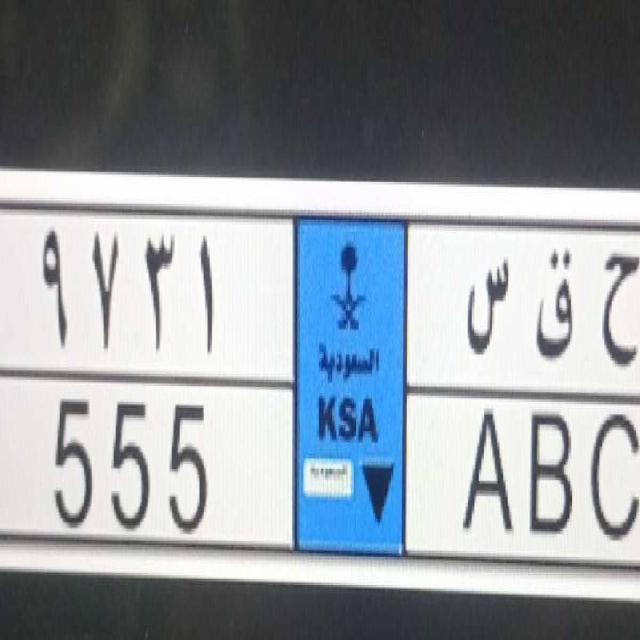license_plate: (17, 364, 640, 617)
